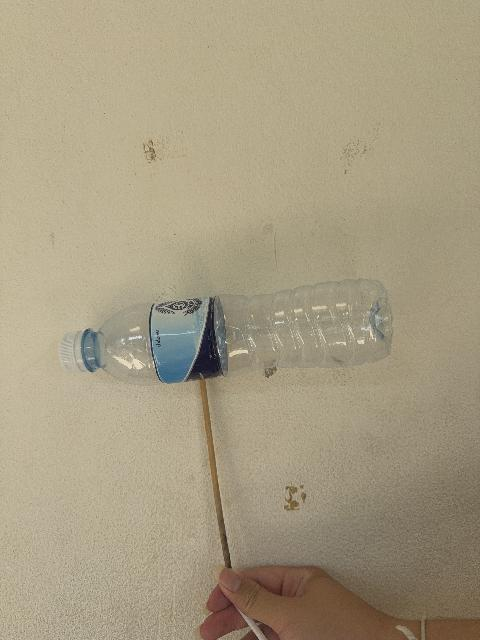bottle: (60, 280, 392, 384)
